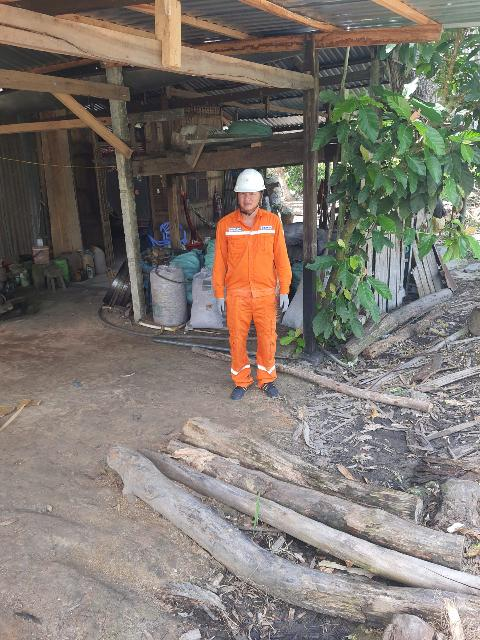gloves: (212, 297, 232, 320), (274, 291, 296, 310)
helmet: (233, 164, 268, 195)
shoes: (233, 370, 252, 401), (257, 377, 283, 399)
